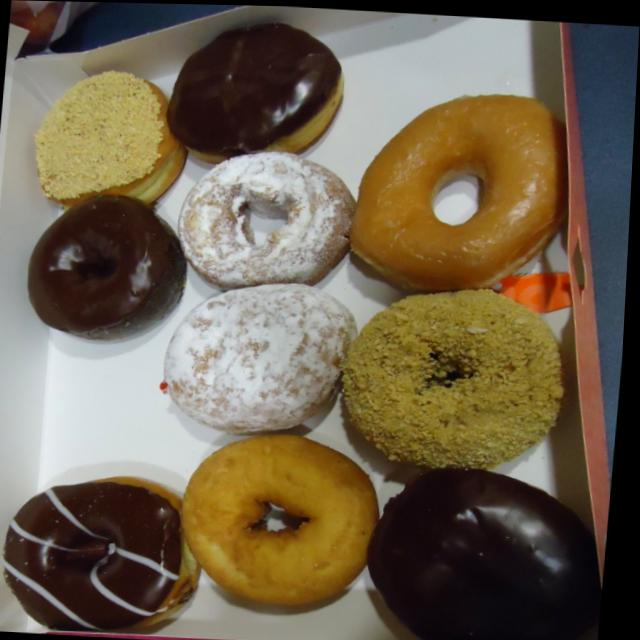donut: (347, 82, 575, 293), (340, 279, 584, 474), (362, 457, 611, 640), (175, 425, 390, 615), (0, 468, 214, 640), (159, 276, 359, 435), (165, 17, 352, 168), (179, 146, 357, 287), (26, 192, 191, 344), (31, 68, 192, 209)
